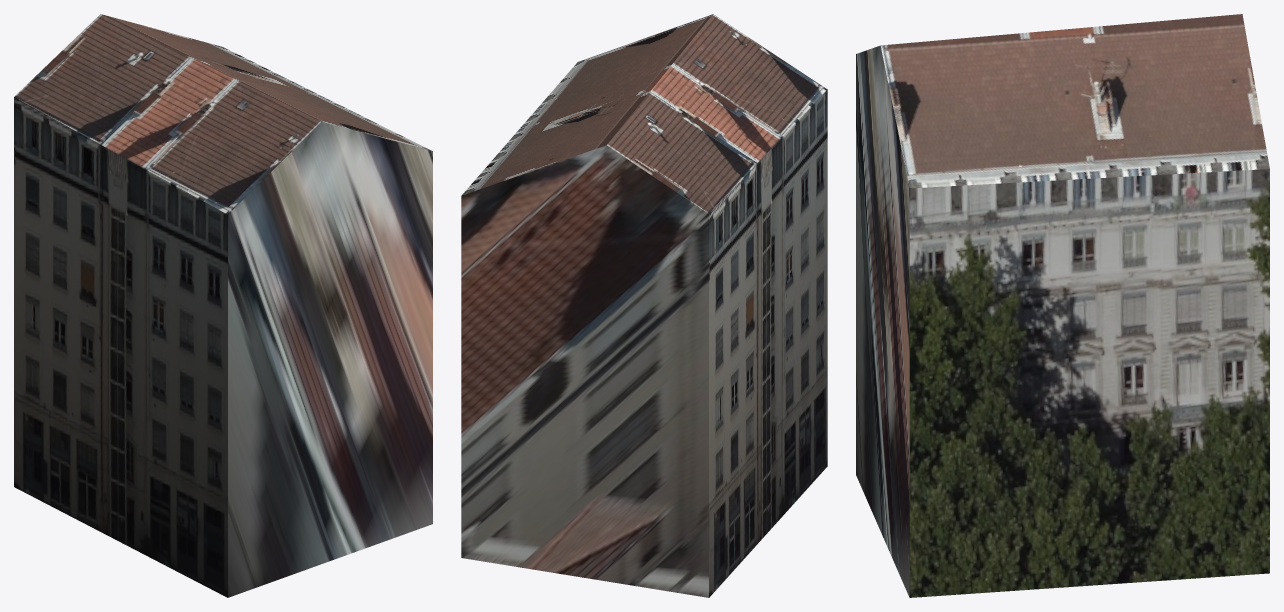
The picture shows the model from 3 angles, left to right: view 1: azimuth 30°, elevation 25°; view 2: azimuth 150°, elevation 25°; view 3: azimuth 270°, elevation 25°; orthographic projection. The views are drawn at different scales.
Parts seen in each view (by area): view 1: Z_UP; view 2: Z_UP; view 3: Z_UP.
Boxes of the visible parts, x1,y1,x2,y2 form: Z_UP: [14, 14, 432, 597]; Z_UP: [461, 14, 827, 597]; Z_UP: [856, 14, 1269, 597].
Size of the model in its own units: 17.64 by 27.06 by 20.85.
Materials: 2 (1 with a texture image).
